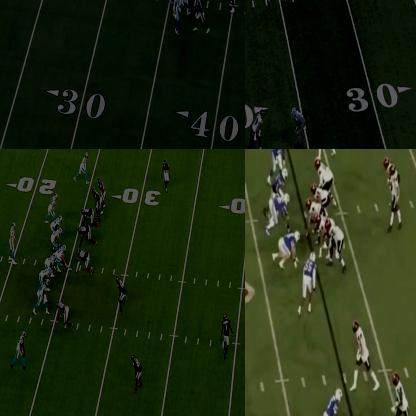CENTER: (304, 196, 323, 235), (56, 244, 70, 272)
DB: (292, 104, 306, 148), (323, 387, 344, 415), (172, 0, 182, 37), (222, 314, 230, 360), (133, 354, 143, 390), (98, 179, 109, 207), (164, 158, 171, 190)
LB: (301, 252, 315, 311), (95, 181, 106, 210), (118, 274, 126, 312), (272, 149, 286, 168)
QB: (390, 165, 402, 229), (10, 223, 14, 258)
SKILL: (353, 319, 379, 387), (392, 374, 415, 415), (246, 107, 268, 148), (15, 332, 28, 362), (40, 278, 50, 314), (78, 152, 90, 179), (48, 195, 58, 219), (383, 155, 390, 173), (227, 0, 236, 10)
